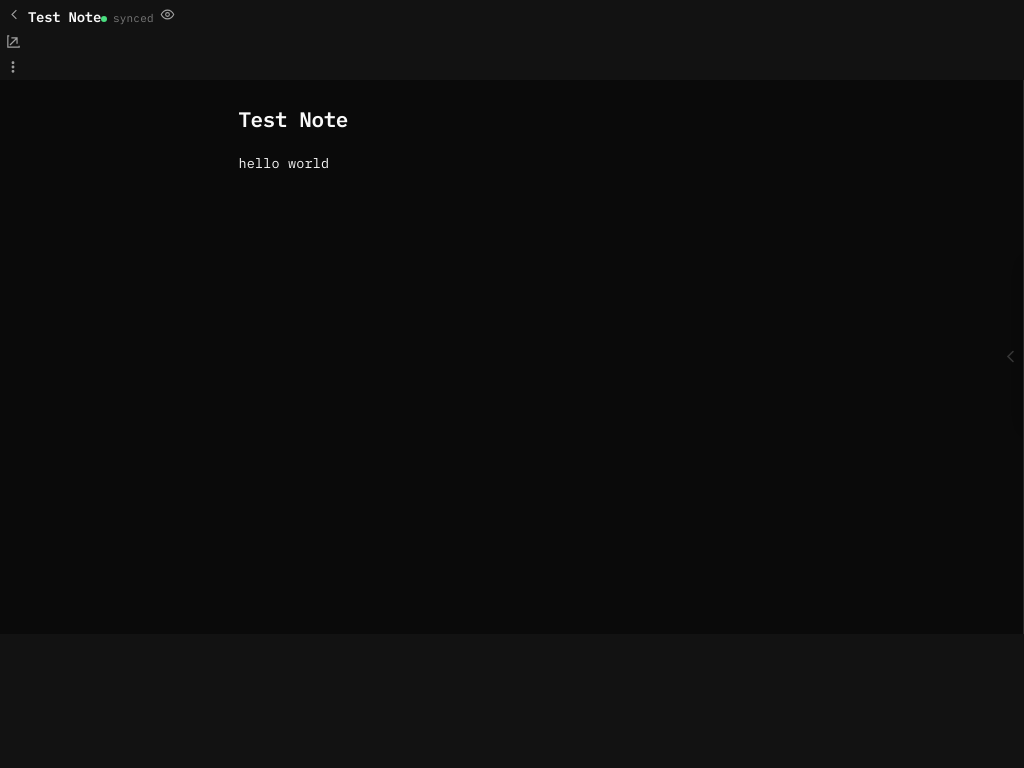
it: NoteEditor — 3-dot menu (P3-B): Reminder · Set as template · Outline · History · Delete › the menu has exactly the five required rows, Delete last and styled as danger
Expected: the button named "Back" is shown, [0, 0, 28, 28]
Expected: the heading "Test Note" is shown, [238, 105, 348, 133]
Click the button named "More".
click(13, 67)  # box [0, 54, 26, 80]
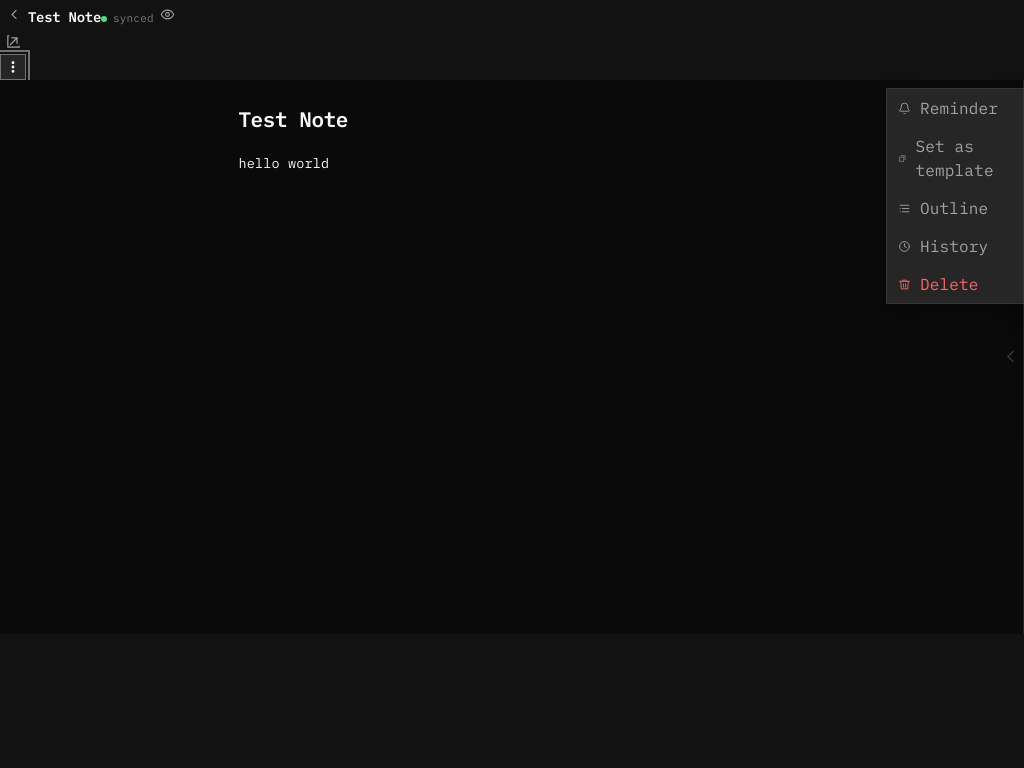
Expected: the menu items read "Reminder", "Set as template", "Outline", "History", "Delete", in this order, [887, 89, 1023, 127]; [887, 127, 1023, 189]; [887, 189, 1023, 227]; [887, 227, 1023, 265]; [887, 265, 1023, 303]
